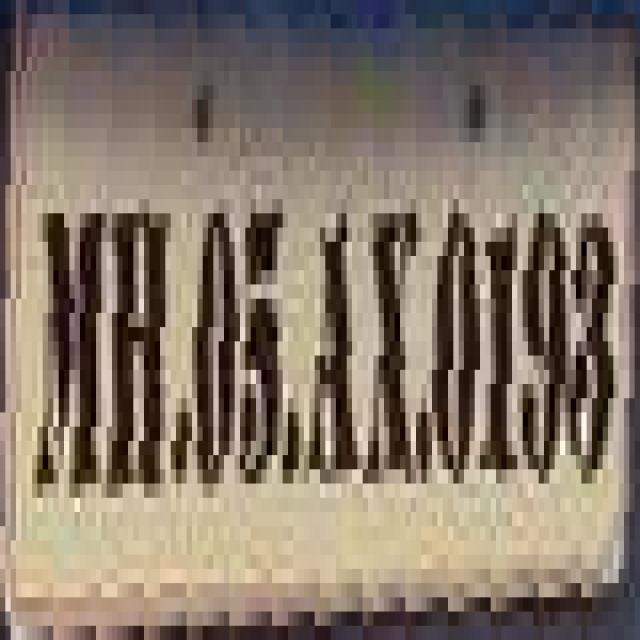license_plate: (0, 42, 619, 554)
